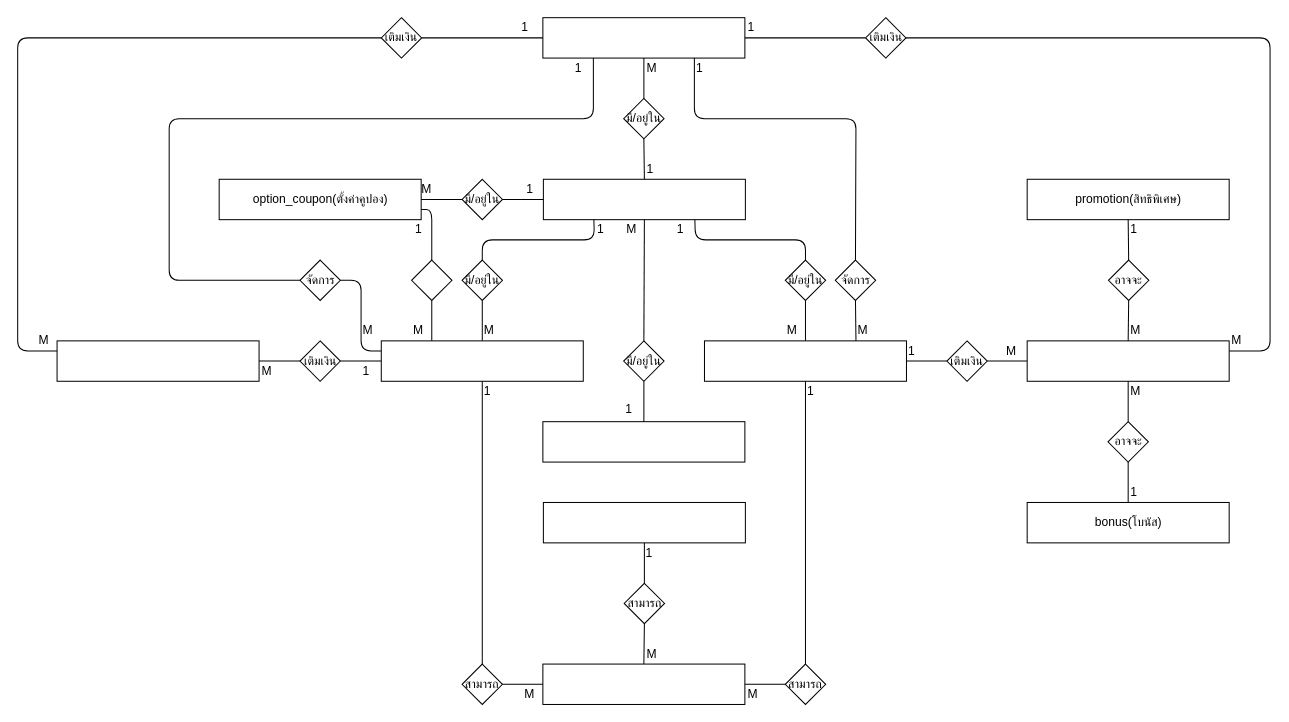
The diagram is 1289 pixels wide and 722 high, and some of its shapes have lost their labels. The centre of each missing label's shape, as x and y in pixels:
computer(คอมพิวเตอร์): [643,522]
coupon(คูปอง): [481,360]
coupon_top_up(เติมเงินคูปอง): [157,360]
member(สมาชิก): [804,360]
member_top_up(เติมเงินสมาชิก): [1127,360]
online(ใช้งานเครื่อง): [643,683]
staff(พนักงาน): [643,37]
type(ประเภททผู้ใช้): [643,441]
user_group(กลุ่มผู้ใช้): [643,199]
สร้าง: [431,279]
